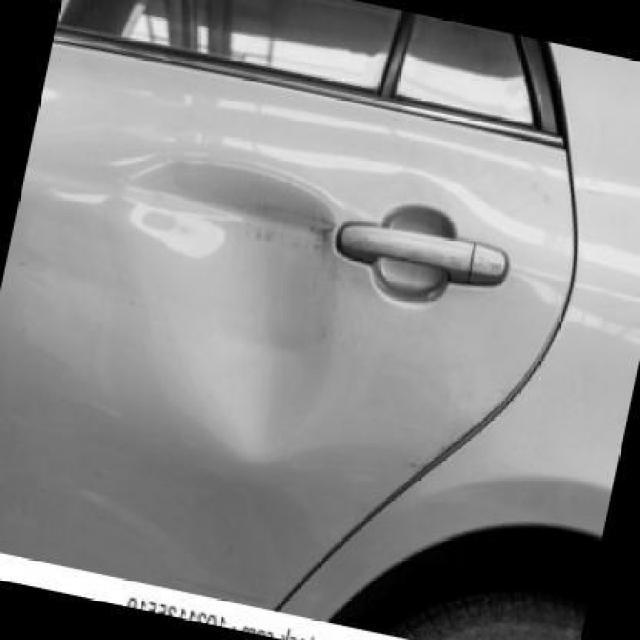dent: (105, 140, 352, 481)
